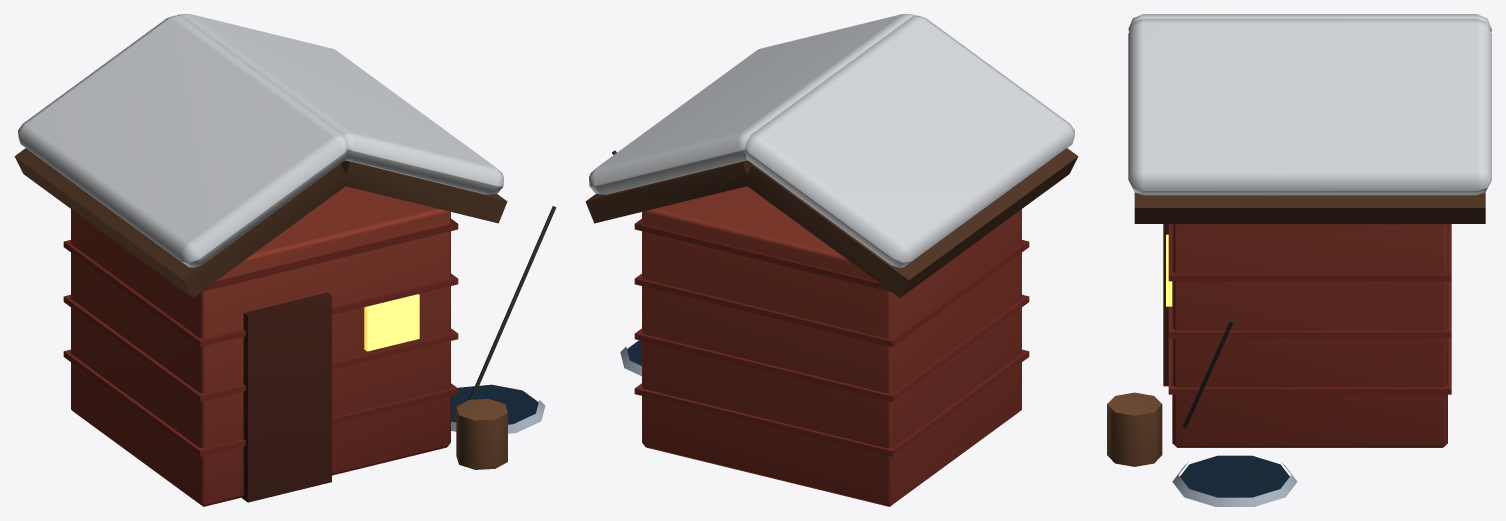
File: prop.glacier_fishhut.glb
3 renders of one model, left to right at view 1: azimuth 30°, elevation 25°; view 2: azimuth 150°, elevation 25°; view 3: azimuth 270°, elevation 25°, orthographic. The views are drawn at different scales.
Visible parts, largest first — view 1: glacier_fishhut; view 2: glacier_fishhut; view 3: glacier_fishhut.
Boxes of the visible parts, x1,y1,x2,y2 form: glacier_fishhut: [14, 14, 556, 506]; glacier_fishhut: [585, 14, 1078, 506]; glacier_fishhut: [1107, 14, 1491, 506].
Bounding box in the file's own units: 4 × 3.24 × 3.07.
